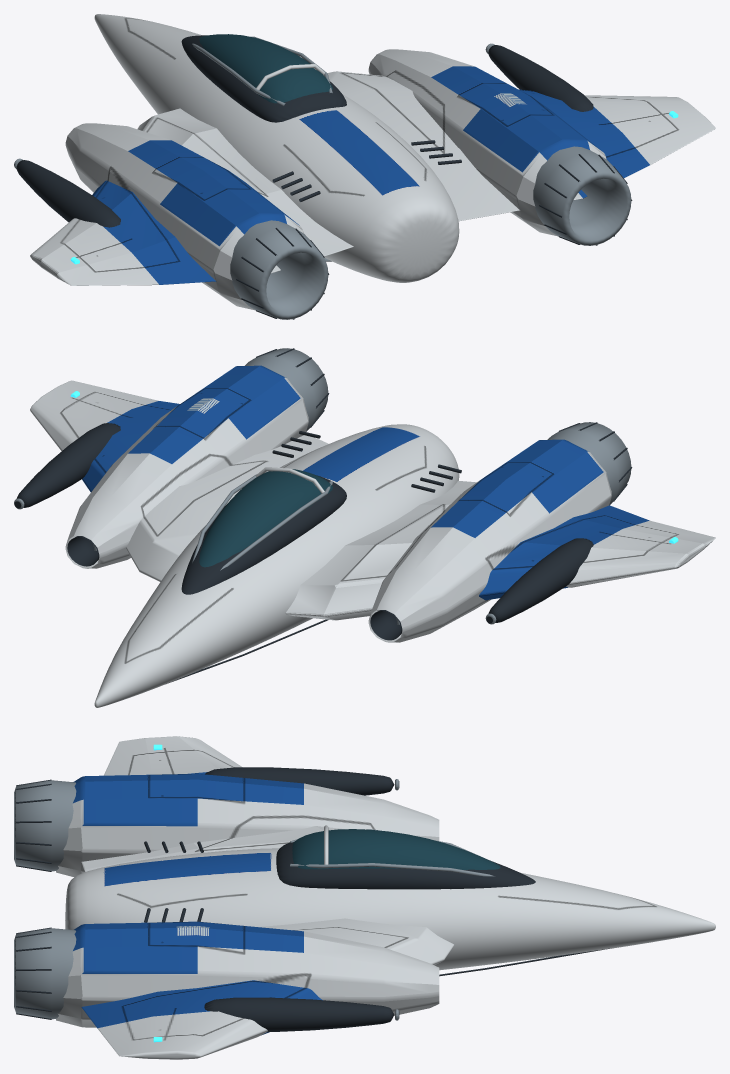
Rendered from nova-sparrow-tangent.glb.
3 renders of one model, top to bottom at view 1: azimuth 30°, elevation 25°; view 2: azimuth 150°, elevation 25°; view 3: azimuth 270°, elevation 25°, orthographic.
Visible parts, largest first — view 1: NovaSparrowV2; view 2: NovaSparrowV2; view 3: NovaSparrowV2.
Boxes of the visible parts, box(x1,y1,x2,y2) form: NovaSparrowV2: box(14, 14, 715, 319); NovaSparrowV2: box(14, 348, 715, 707); NovaSparrowV2: box(14, 736, 715, 1059).
Bounding box in the file's own units: 3.38 × 0.6862 × 3.17.
6 materials, 2 textured.
